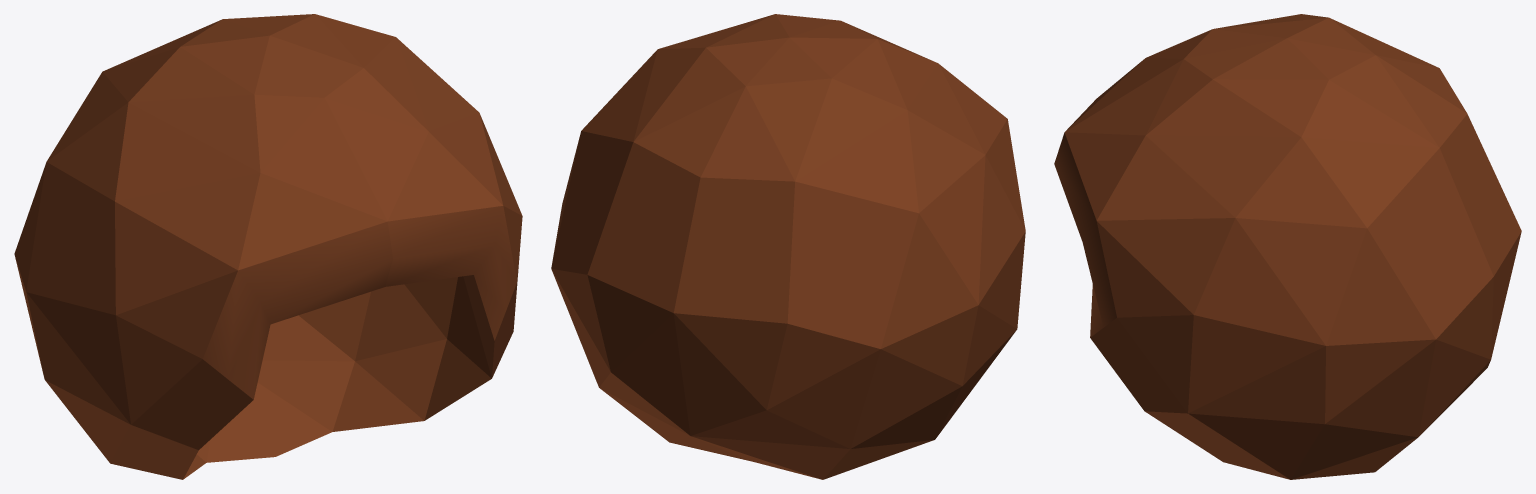
Rendered from HairCut6.fbx.
The picture shows the model from 3 angles, left to right: view 1: azimuth 30°, elevation 25°; view 2: azimuth 150°, elevation 25°; view 3: azimuth 270°, elevation 25°; orthographic projection. The views are drawn at different scales.
Visible parts, largest first — view 1: characterBase.001; view 2: characterBase.001; view 3: characterBase.001.
Boxes of the visible parts, x1,y1,x2,y2 form: characterBase.001: [14, 14, 522, 479]; characterBase.001: [551, 14, 1025, 479]; characterBase.001: [1054, 14, 1521, 479].
Bounding box in the file's own units: 79.38 × 72.54 × 76.37.
